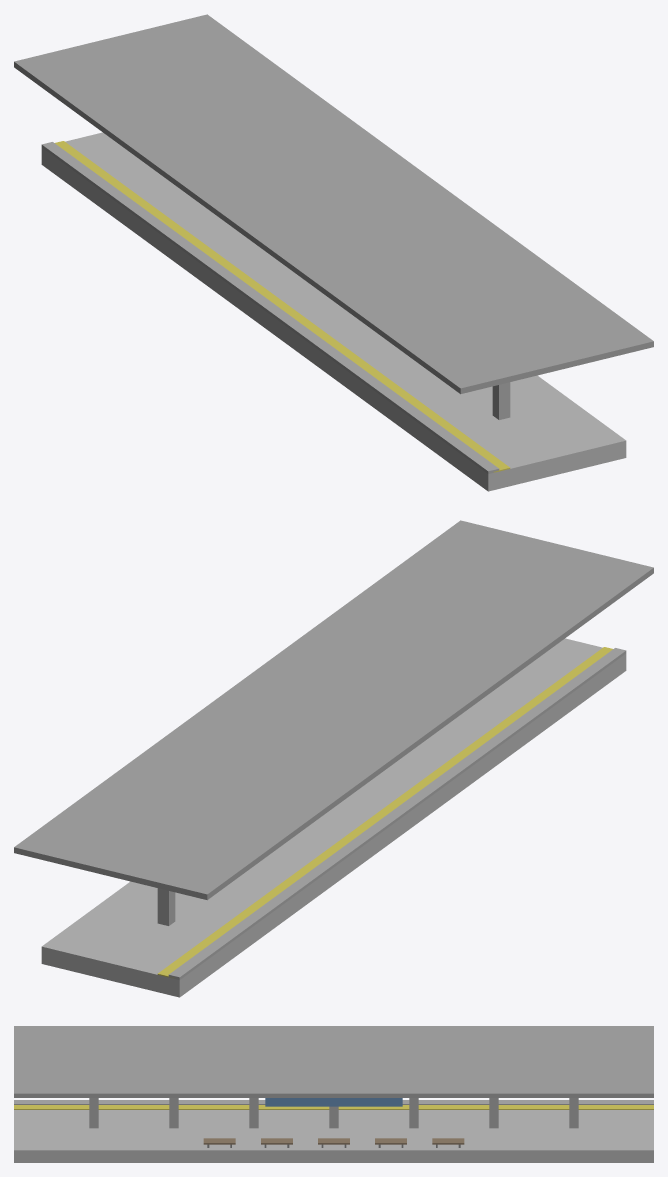
Rendered from station-subway-entrance.glb.
3 views of the same model, one above another, from view 1: azimuth 30°, elevation 25°; view 2: azimuth 150°, elevation 25°; view 3: azimuth 270°, elevation 25° (orthographic). The views are drawn at different scales.
Parts seen in each view (by area): view 1: station-subway-entrance; view 2: station-subway-entrance; view 3: station-subway-entrance.
Boxes of the visible parts, bbox=[...] form: station-subway-entrance: bbox=[14, 14, 653, 491]; station-subway-entrance: bbox=[14, 520, 653, 997]; station-subway-entrance: bbox=[14, 1026, 653, 1162].
Size of the model in its own units: 7 by 3.8 by 28.
